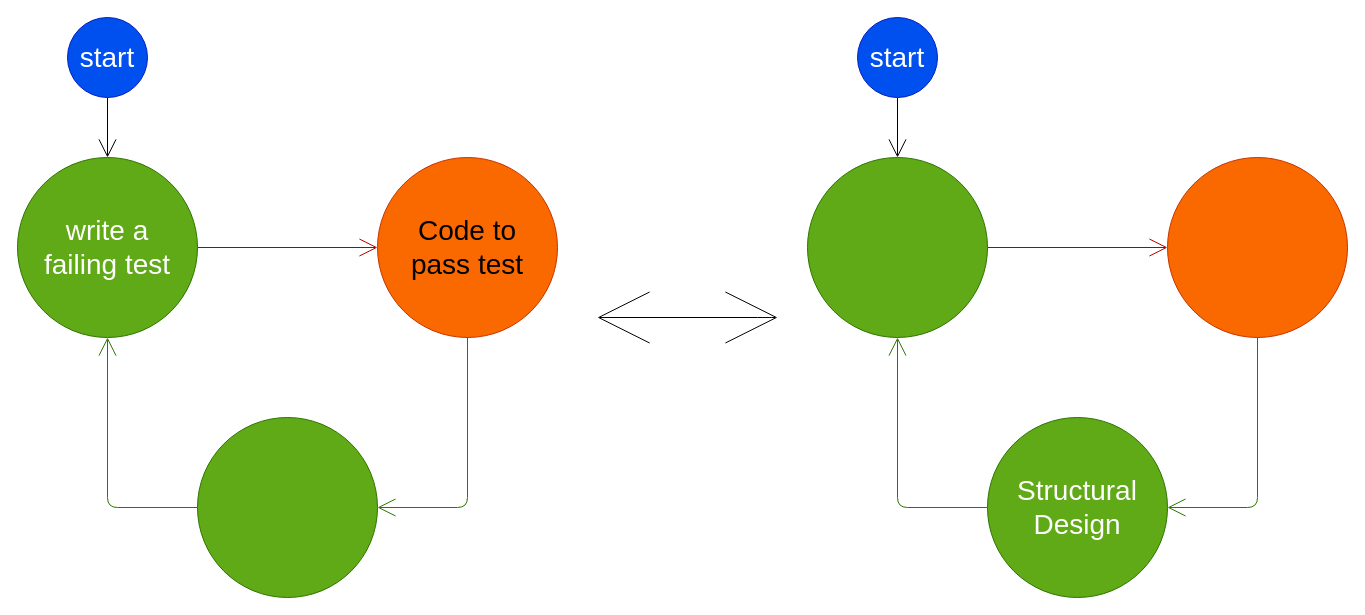
This 1365x615 diagram has some shape labels left out. The shapes that lost their labels are listed below. From the top down, each one's centre as x and y in pixels, then its label:
the point at 897,247: API Design
the point at 1257,247: Internals Design
the point at 287,507: Refactor
